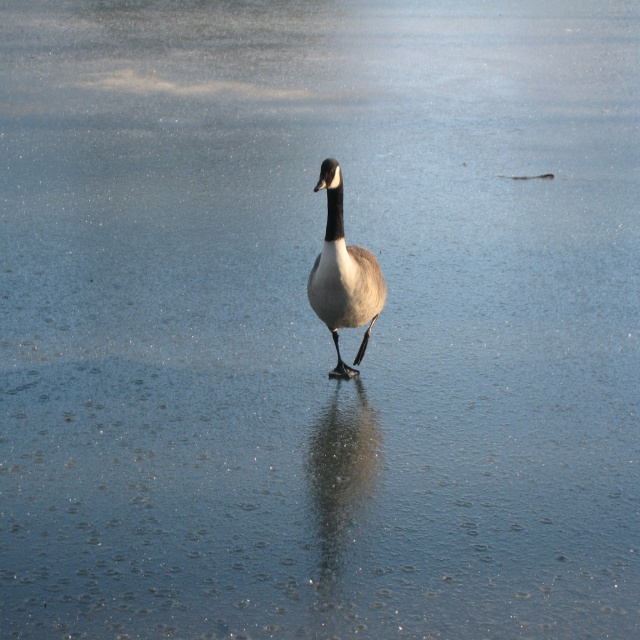Goose: (305, 160, 387, 380)
